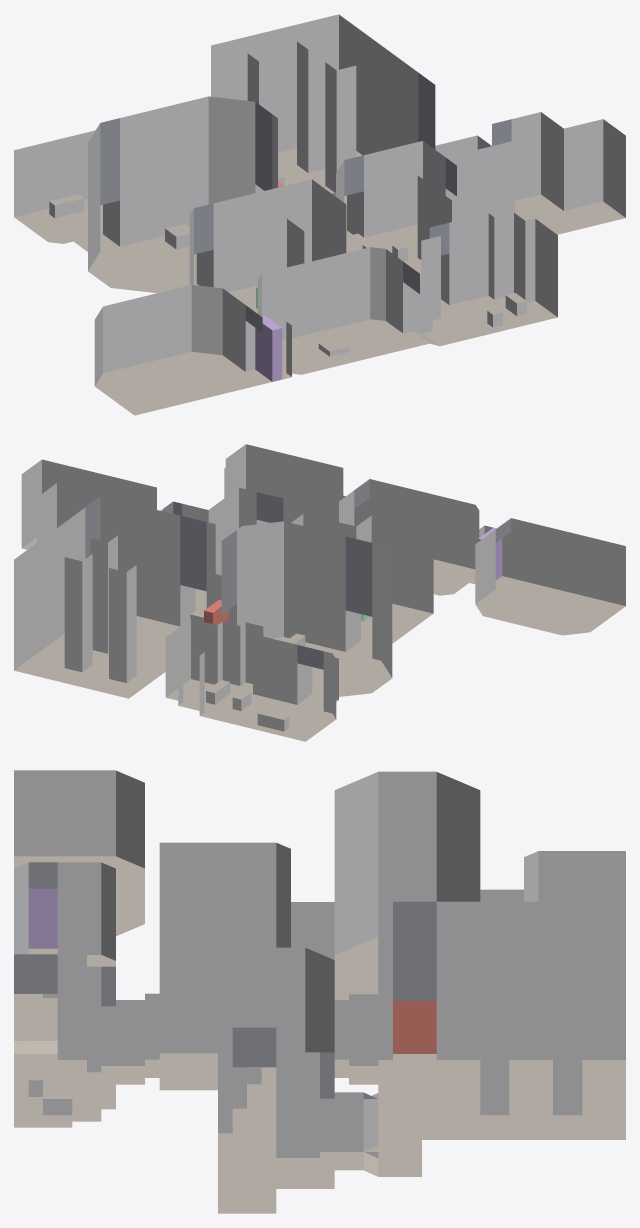
The model's file is deck_06.glb.
3 views of the same model, one above another, from view 1: azimuth 30°, elevation 25°; view 2: azimuth 150°, elevation 25°; view 3: azimuth 270°, elevation 25° (orthographic). The views are drawn at different scales.
Visible parts, largest first — view 1: room:3, room:2, room:8, room:0, room:6, room:5, room:4, room:1, room:7, corridor:5, entities, corridor:8 (+5 smaller); view 2: room:2, room:3, room:7, room:8, room:6, room:4, room:0, room:5, room:1, corridor:6, corridor:3, entities (+2 smaller); view 3: room:2, room:3, room:1, room:0, room:8, room:4, room:5, room:6, corridor:8, room:7, corridor:4, entities (+4 smaller).
Part boxes in pixels (x1,y1,x2,y2): room:3: (88,96,277,293); room:2: (211,14,435,230); room:8: (94,285,262,415); room:0: (475,112,625,234); room:6: (258,247,419,374); room:5: (421,212,557,343); room:4: (189,179,346,313); room:1: (336,141,456,281); room:7: (14,130,102,243); corridor:5: (403,280,448,346); entities: (255,182,283,381); corridor:8: (435,135,491,185); room:2: (14,496,215,698); room:3: (221,521,392,696); room:7: (165,619,336,741); room:8: (475,518,625,635); room:6: (339,479,479,595); room:4: (291,513,433,643); room:0: (21,459,156,549); room:5: (224,444,343,522); room:1: (160,487,292,612); corridor:6: (297,657,338,711); corridor:3: (345,610,372,658); entities: (204,527,502,625); room:2: (378,901,625,1139); room:3: (334,771,480,1006); room:1: (159,947,334,1114); room:0: (218,1027,334,1213); room:8: (14,770,144,936); room:4: (159,842,290,947); room:5: (14,954,115,1127); room:6: (14,862,115,1034); corridor:8: (320,1092,421,1176); room:7: (524,851,625,901); corridor:4: (101,993,159,1084); entities: (28,888,436,1053).
Bounding box in the file's own units: 58 × 12.5 × 42.
